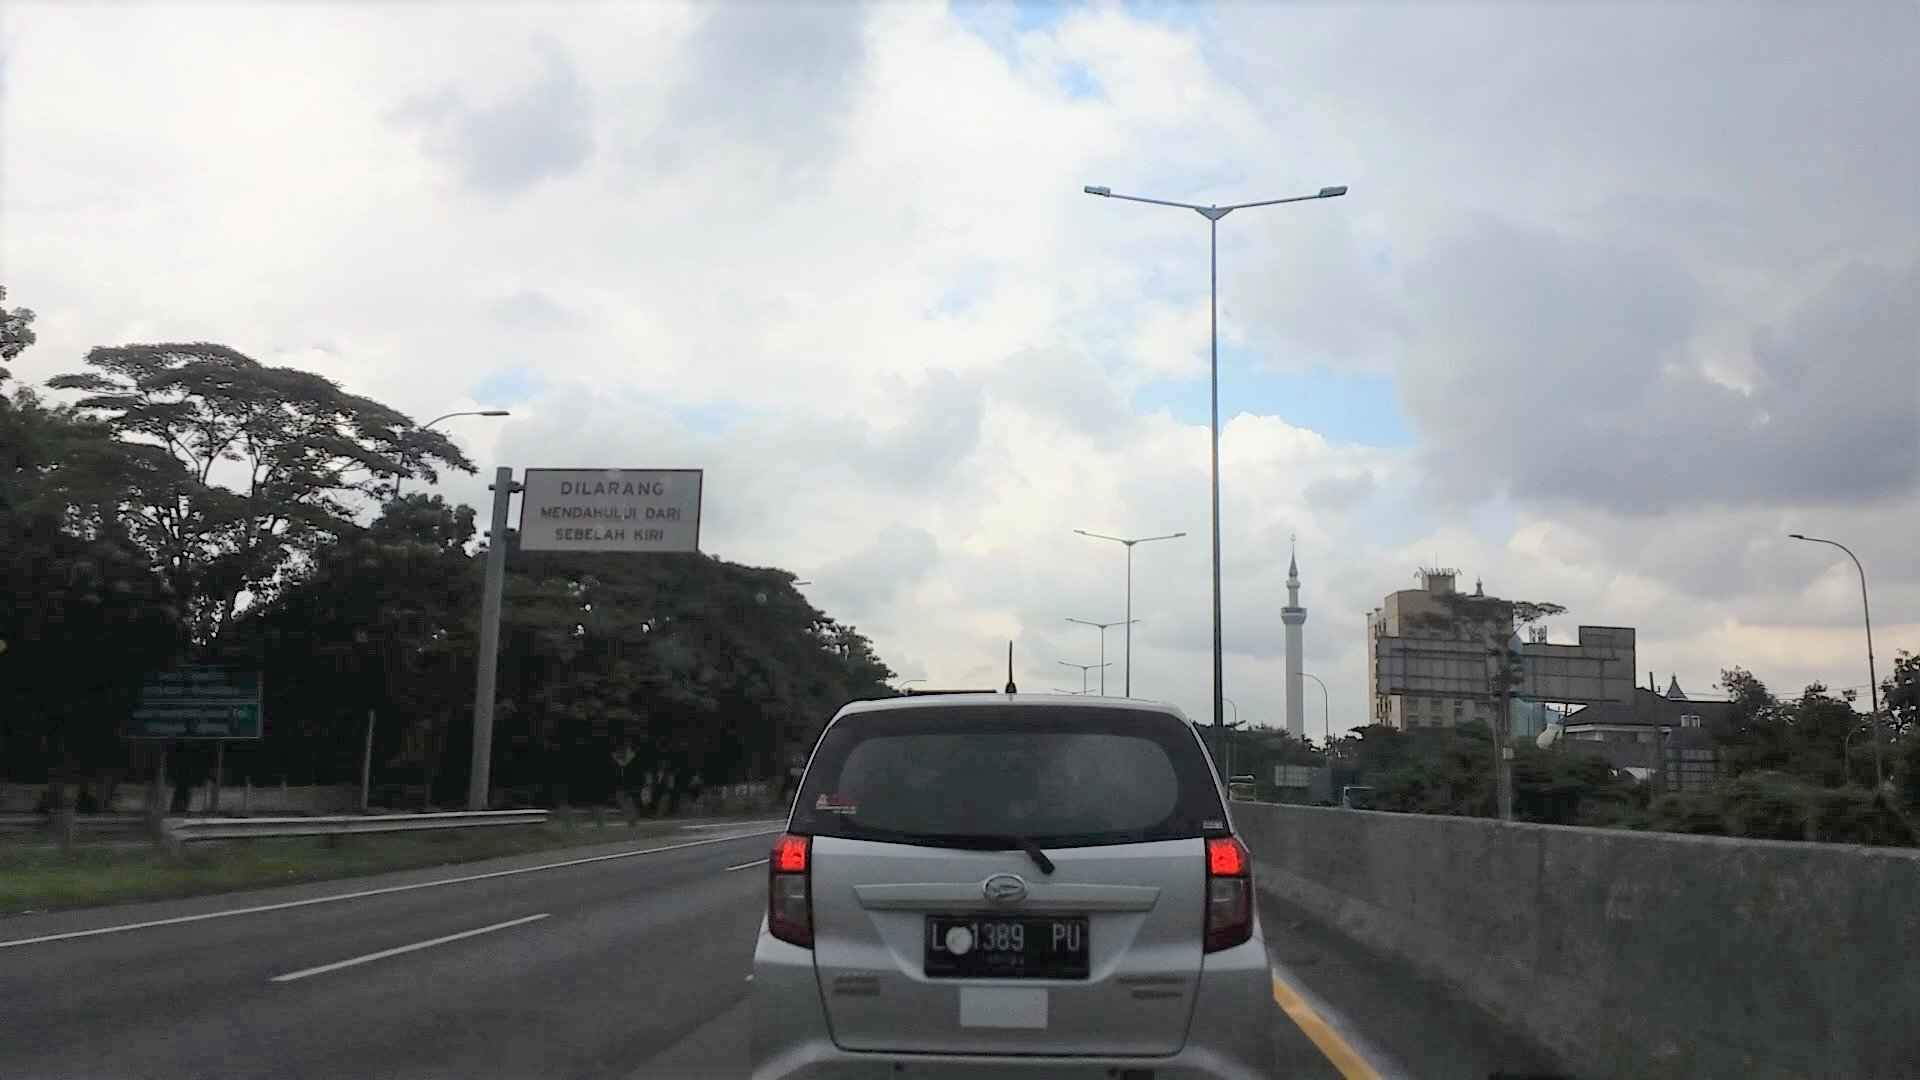plate_positive: (924, 913, 1091, 978)
